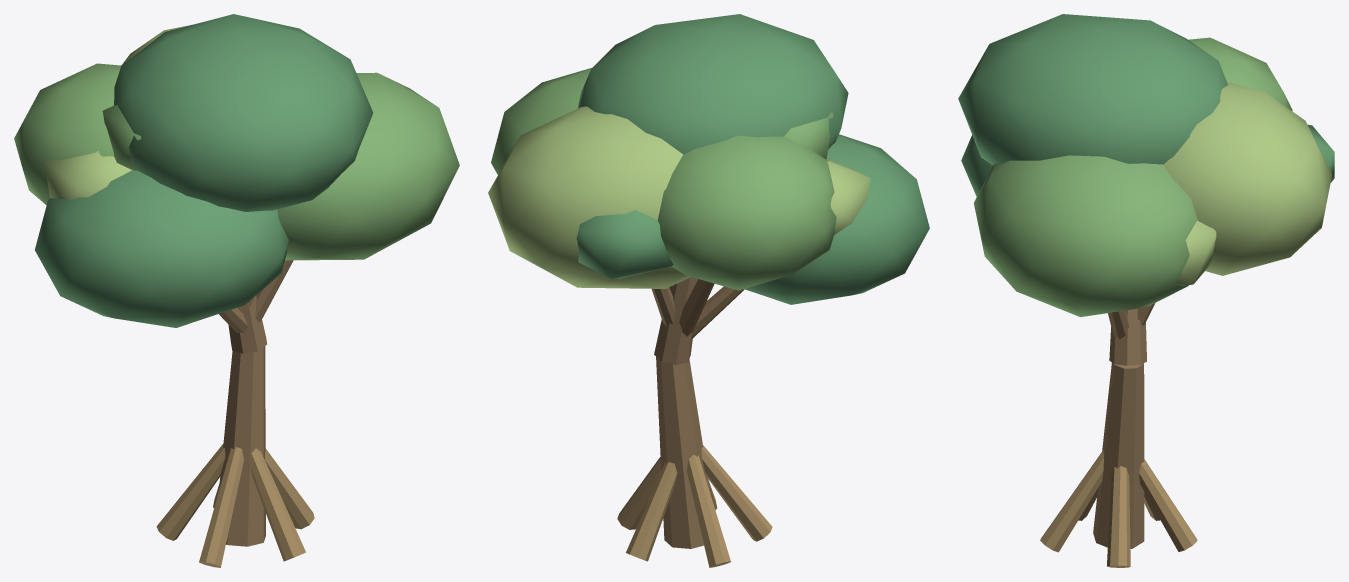
The model's file is delta-tree.glb.
The picture shows the model from 3 angles, left to right: view 1: azimuth 30°, elevation 25°; view 2: azimuth 150°, elevation 25°; view 3: azimuth 270°, elevation 25°; orthographic projection.
Visible parts, largest first — view 1: Delta leaves 0, Delta leaves 1, Delta bark, Delta root, Delta leaves 2; view 2: Delta leaves 0, Delta leaves 1, Delta leaves 2, Delta bark, Delta root; view 3: Delta leaves 0, Delta leaves 1, Delta leaves 2, Delta bark, Delta root.
Boxes of the visible parts, left/top/right/bottom form: Delta leaves 0: left=35, top=14, right=373, bottom=327; Delta leaves 1: left=14, top=63, right=459, bottom=260; Delta bark: left=219, top=260, right=293, bottom=546; Delta root: left=156, top=444, right=314, bottom=567; Delta leaves 2: left=44, top=24, right=192, bottom=199; Delta leaves 0: left=576, top=14, right=929, bottom=304; Delta leaves 1: left=491, top=68, right=836, bottom=290; Delta leaves 2: left=488, top=106, right=870, bottom=288; Delta bark: left=651, top=277, right=744, bottom=548; Delta root: left=617, top=445, right=772, bottom=567; Delta leaves 0: left=958, top=14, right=1334, bottom=196; Delta leaves 1: left=974, top=37, right=1292, bottom=317; Delta leaves 2: left=1163, top=81, right=1332, bottom=285; Delta bark: left=1093, top=303, right=1155, bottom=548; Delta root: left=1040, top=450, right=1197, bottom=567.
Bounding box in the file's own units: 7.26 × 8.89 × 5.97.
